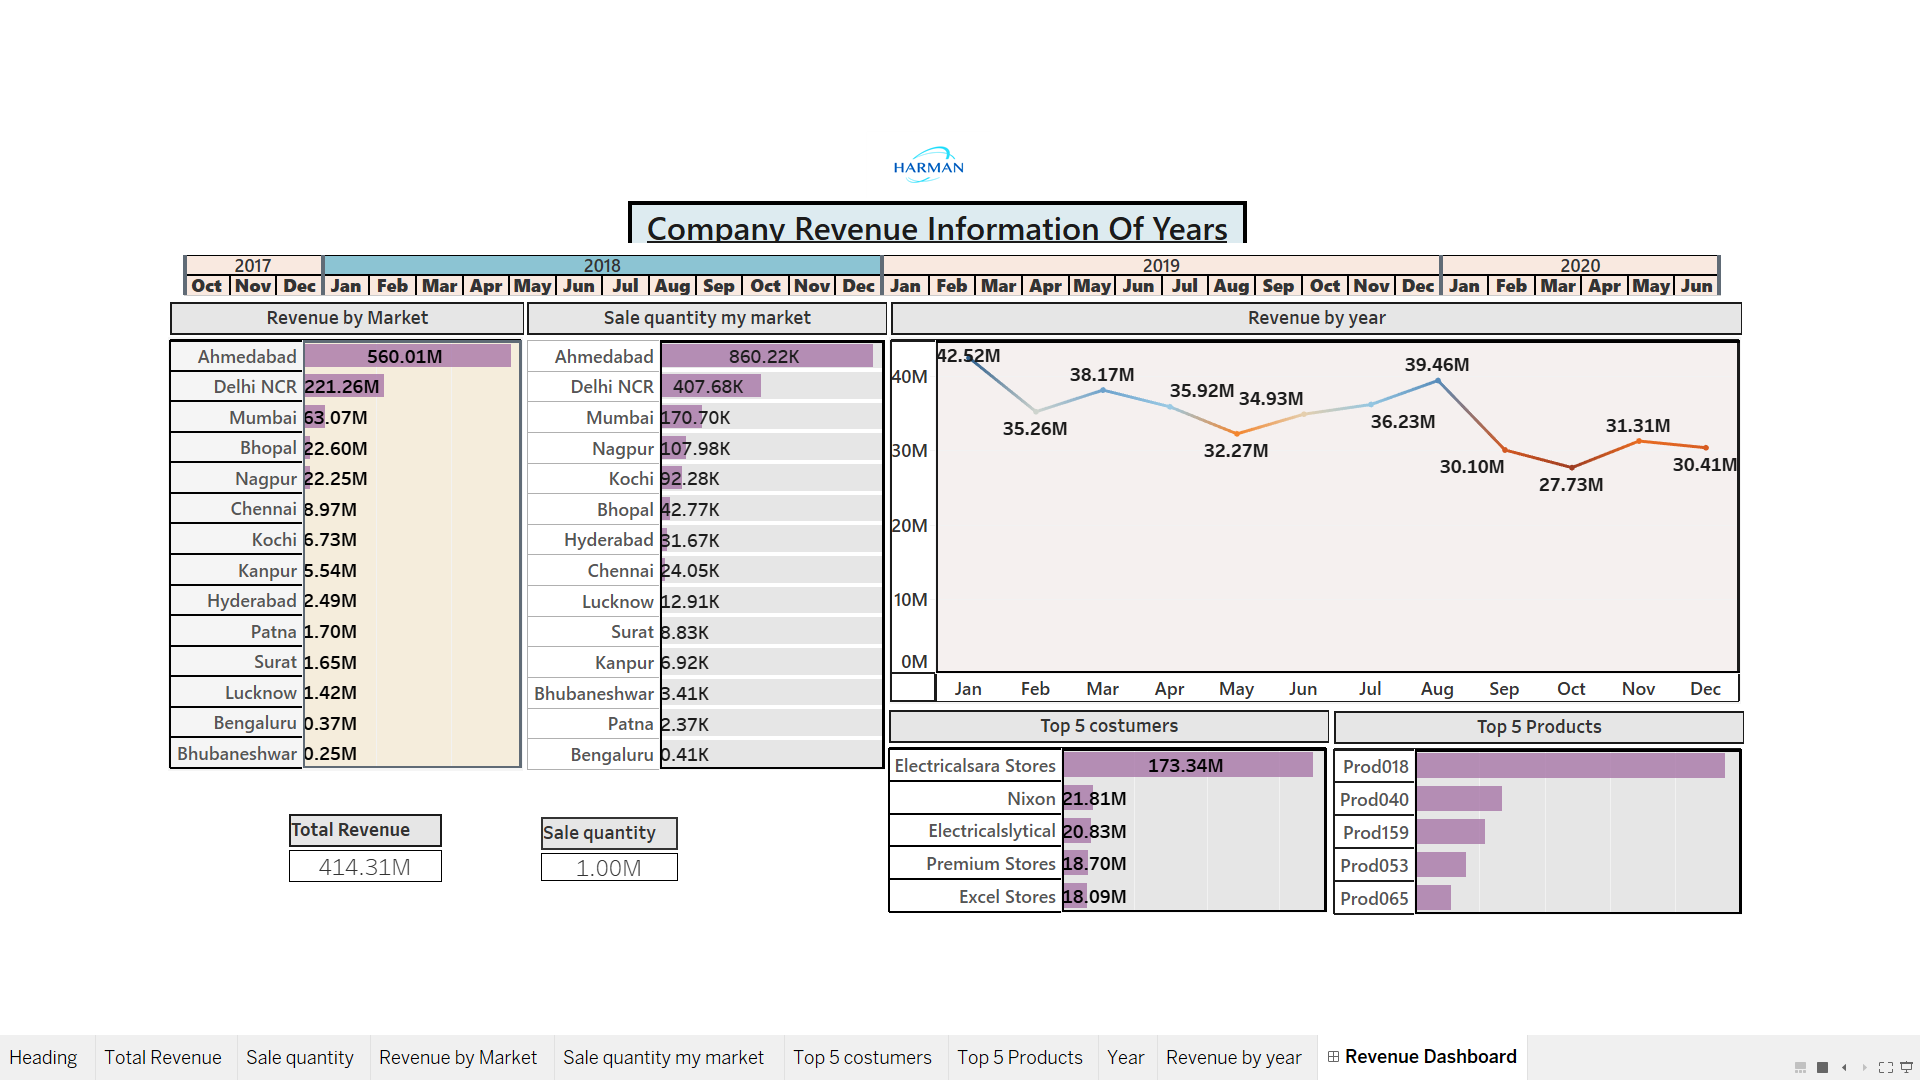

The page's visual inventory and layout, read from the dashboard file:
{"tool":"tableau","page":{"name":"Revenue Dashboard","canvas":[1600,800],"ordinal":0},"visuals":[{"type":"image","param":"C:/Users/burad/Downloads/python/BI Tools Project/Harman+Primary+Logo+(Med)_mid.j","box":[548,14,441,67]},{"type":"worksheet","title":"Heading ","mark":"Automatic","box":[468,84,619,42]},{"type":"worksheet","title":"Year","mark":"Automatic","cols":["cy_date","cy_date"],"box":[21,136,1542,45]},{"type":"worksheet","title":"Revenue by Market","mark":"Automatic","rows":["markets_name"],"cols":["Calculation_410109081751785472"],"box":[8,185,356,469]},{"type":"worksheet","title":"Sale quantity my market","mark":"Automatic","rows":["markets_name"],"cols":["sales_qty"],"box":[365,185,362,470]},{"type":"worksheet","title":"Revenue by year","mark":"Automatic","rows":["Calculation_410109081751785472"],"cols":["cy_date"],"box":[729,185,853,402]},{"type":"worksheet","title":"Top 5 costumers","mark":"Automatic","rows":["custmer_name"],"cols":["Calculation_410109081751785472"],"box":[727,593,442,205]},{"type":"worksheet","title":"Top 5 Products","mark":"Bar","rows":["product_code (products)"],"cols":["Calculation_410109081751785472"],"box":[1172,594,412,206]},{"type":"worksheet","title":"Total Revenue","mark":"Automatic","box":[129,697,153,68]},{"type":"worksheet","title":"Sale quantity","mark":"Automatic","box":[381,700,137,64]}]}

Visuals, with their boxes on the page's 1600x800 design canvas (x1, y1, x2, y2). These are canvas units, not pixel positions in the 1920x1080 screenshot, which may show the page scaled, cropped or inside an application window:
image: [left=548, top=14, right=989, bottom=81]
"Heading " worksheet: [left=468, top=84, right=1087, bottom=126]
"Year" worksheet: [left=21, top=136, right=1563, bottom=181]
"Revenue by Market" worksheet: [left=8, top=185, right=364, bottom=654]
"Sale quantity my market" worksheet: [left=365, top=185, right=727, bottom=655]
"Revenue by year" worksheet: [left=729, top=185, right=1582, bottom=587]
"Top 5 costumers" worksheet: [left=727, top=593, right=1169, bottom=798]
"Top 5 Products" worksheet (Bar marks): [left=1172, top=594, right=1584, bottom=800]
"Total Revenue" worksheet: [left=129, top=697, right=282, bottom=765]
"Sale quantity" worksheet: [left=381, top=700, right=518, bottom=764]
